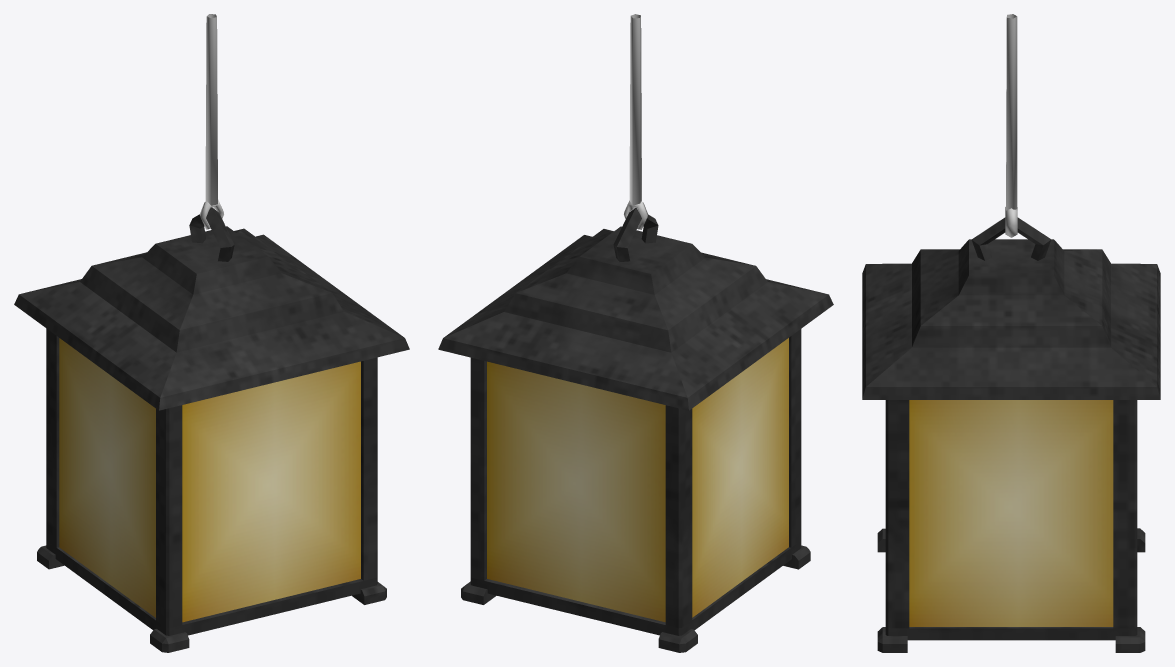
File: MS_Lantern_Hanging.fbx
3 views of the same model, side by side, from view 1: azimuth 30°, elevation 25°; view 2: azimuth 150°, elevation 25°; view 3: azimuth 270°, elevation 25° (orthographic). The views are drawn at different scales.
Parts seen in each view (by area): view 1: MSH_Lantern; view 2: MSH_Lantern; view 3: MSH_Lantern.
Boxes of the visible parts, x1,y1,x2,y2 form: MSH_Lantern: (14, 14, 409, 652); MSH_Lantern: (438, 14, 833, 652); MSH_Lantern: (862, 14, 1160, 652).
Size of the model in its own units: 17.8 by 38.15 by 17.8.
